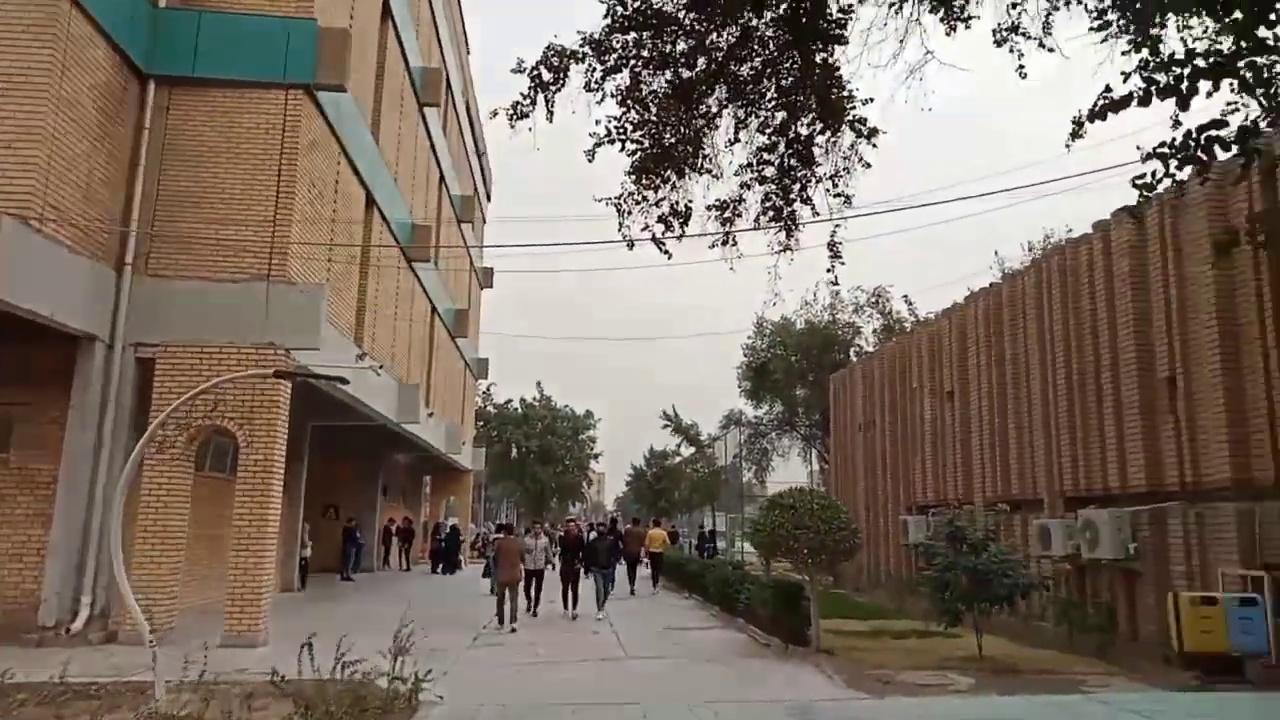person: (339, 516, 358, 581), (394, 516, 415, 571), (298, 520, 312, 591), (380, 516, 396, 570), (350, 520, 365, 573), (694, 523, 708, 559)
tree: (487, 0, 887, 312), (841, 0, 1279, 204), (1061, 0, 1278, 202), (733, 278, 920, 486), (901, 507, 1040, 658), (745, 484, 863, 652), (472, 379, 603, 528), (658, 403, 750, 561), (716, 407, 772, 570), (614, 443, 712, 531)
